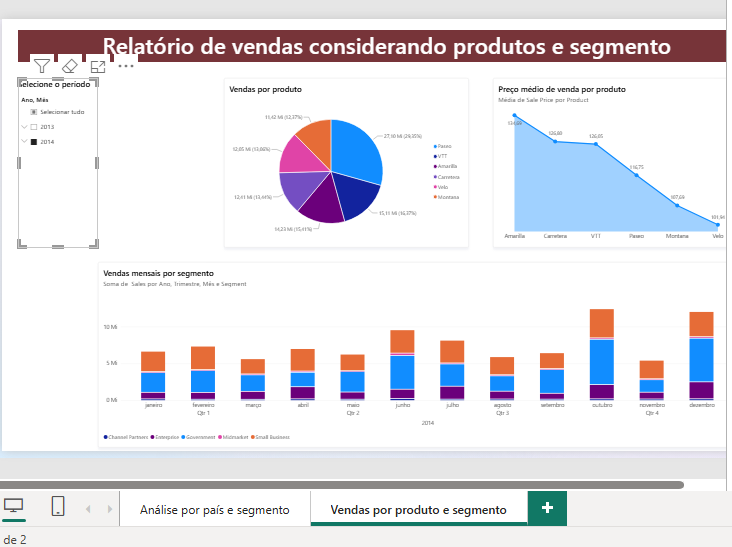

What the dashboard file says about the page in this screenshot:
{"tool":"powerbi","page":{"name":"Vendas por produto e segmento","canvas":[1920,1080],"ordinal":0},"visuals":[{"type":"pieChart","title":"Vendas por produto","fields":{"Category":["financials.Product"],"Y":["Sum(financials. Sales)"]},"box":[262.4,147.2,694.4,425],"z":0},{"type":"areaChart","title":"Preço médio de venda por produto","fields":{"Category":["financials.Product"],"Y":["Avg(financials.Sale Price)"]},"box":[1148.5,147.2,716.7,425],"z":1000},{"type":"columnChart","title":"Vendas mensais por segmento","fields":{"Category":["financials.Date.Variation.Hierarquia de datas.Ano","financials.Date.Variation.Hierarquia de datas.Trimestre","financials.Date.Variation.Hierarquia de datas.Mês","financials.Date.Variation.Hierarquia de datas.Dia"],"Series":["financials.Segment"],"Y":["Sum(financials. Sales)"]},"box":[262.4,608.3,1605.6,463.9],"z":2000},{"type":"textbox","title":"Relatório de vendas considerando produtos e segmento","box":[40,28,1844,80],"z":3000},{"type":"slicer","title":"Selecione o período","fields":{"Values":["financials.Date.Variation.Hierarquia de datas.Ano","financials.Date.Variation.Hierarquia de datas.Mês"]},"box":[38.9,147.2,200,258.3],"z":4000}]}

Visuals, with their boxes on the page's 1920x1080 design canvas (x1, y1, x2, y2). These are canvas units, not pixel positions in the 732x547 screenshot, which may show the page scaled, cropped or inside an application window:
"Vendas por produto" pieChart: [x1=262, y1=147, x2=957, y2=572]
"Preço médio de venda por produto" areaChart: [x1=1148, y1=147, x2=1865, y2=572]
"Vendas mensais por segmento" columnChart: [x1=262, y1=608, x2=1868, y2=1072]
"Relatório de vendas considerando produtos e segmento" textbox: [x1=40, y1=28, x2=1884, y2=108]
"Selecione o período" slicer: [x1=39, y1=147, x2=239, y2=406]
